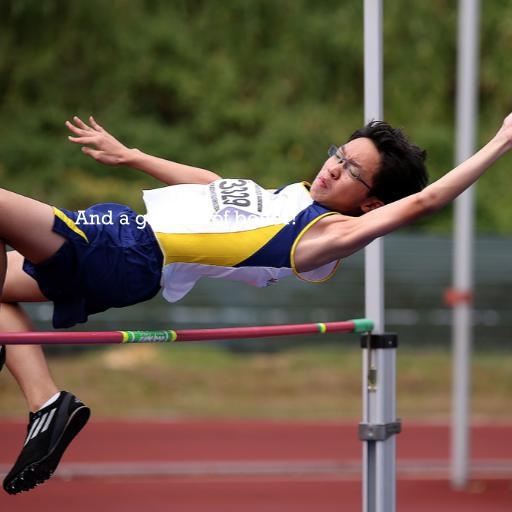Rockwell: (73, 210, 297, 229)
